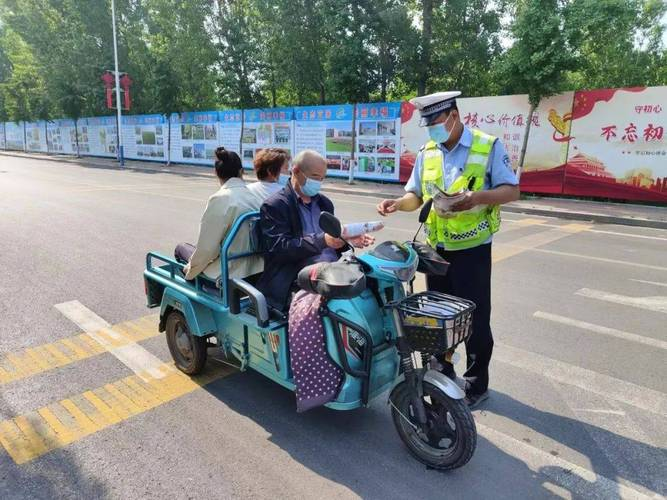driver: (257, 137, 356, 314)
overloading: (134, 129, 488, 477)
passenger: (198, 143, 257, 284), (253, 140, 293, 199)
